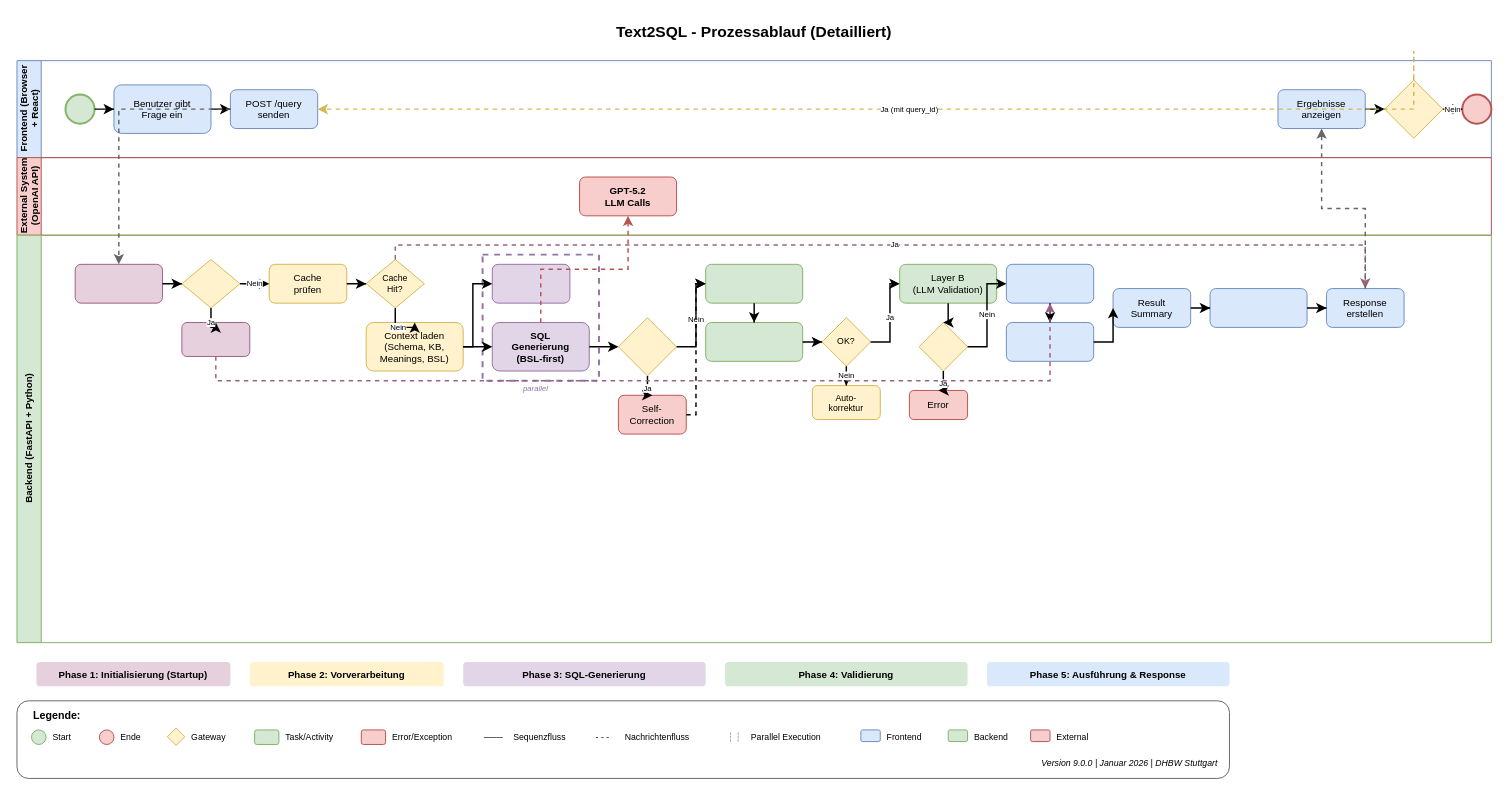
Image size: 1509x795. Some labels were removed from this diagram. The shapes that lost their labels are listed below. From the top down, each one's centre as x and y in pixels, then its label:
pixel 1413 108: Weitere Seite?
pixel 118 283: Request empfangen
pixel 210 283: query_id ?
pixel 530 283: Ambiguity Check
pixel 754 283: Layer A (BSL Compliance)
pixel 1049 283: Query ausführen
pixel 1258 307: Session & Cache speichern
pixel 215 339: Session laden
pixel 647 346: Conf. <0.4?
pixel 754 341: Server Guards (SQL Guard)
pixel 943 346: high?
pixel 1049 341: Paging anwenden
